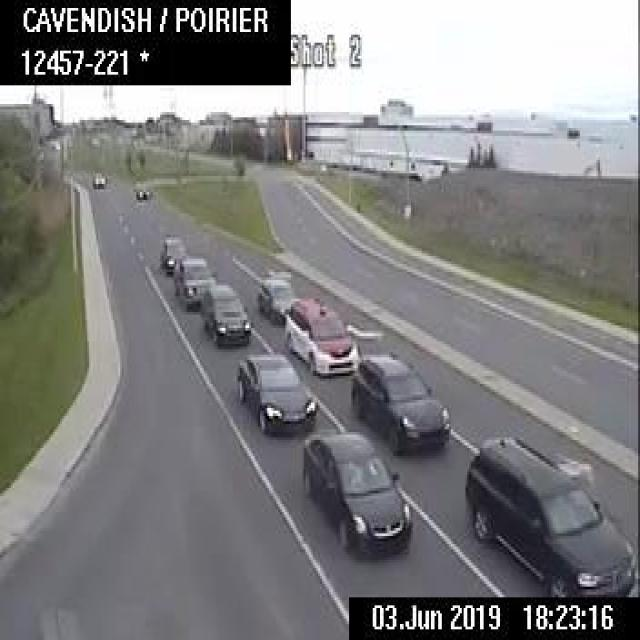vehicle: (462, 434, 634, 594), (298, 426, 409, 554), (349, 352, 451, 453), (235, 352, 316, 432), (284, 296, 358, 374), (200, 282, 251, 347), (173, 255, 215, 309), (255, 273, 298, 323), (158, 234, 188, 272), (133, 184, 149, 200), (91, 170, 105, 187)
